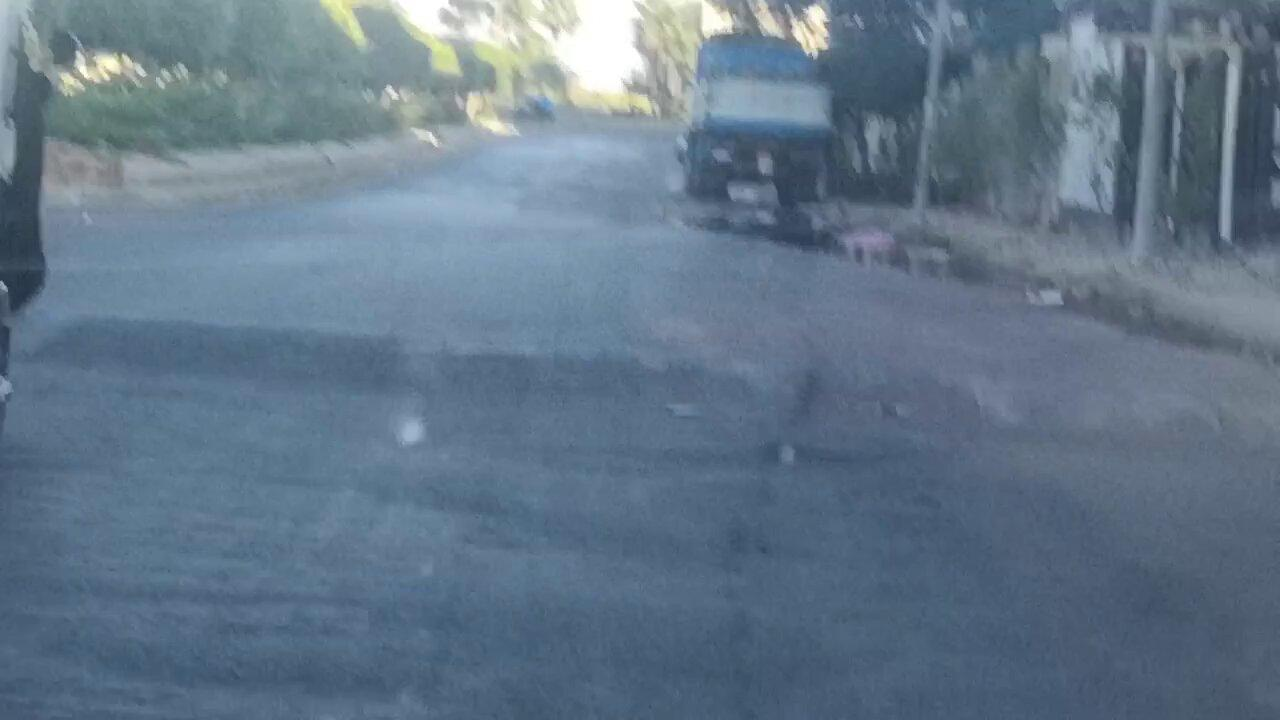Bump: (22, 297, 1280, 460)
